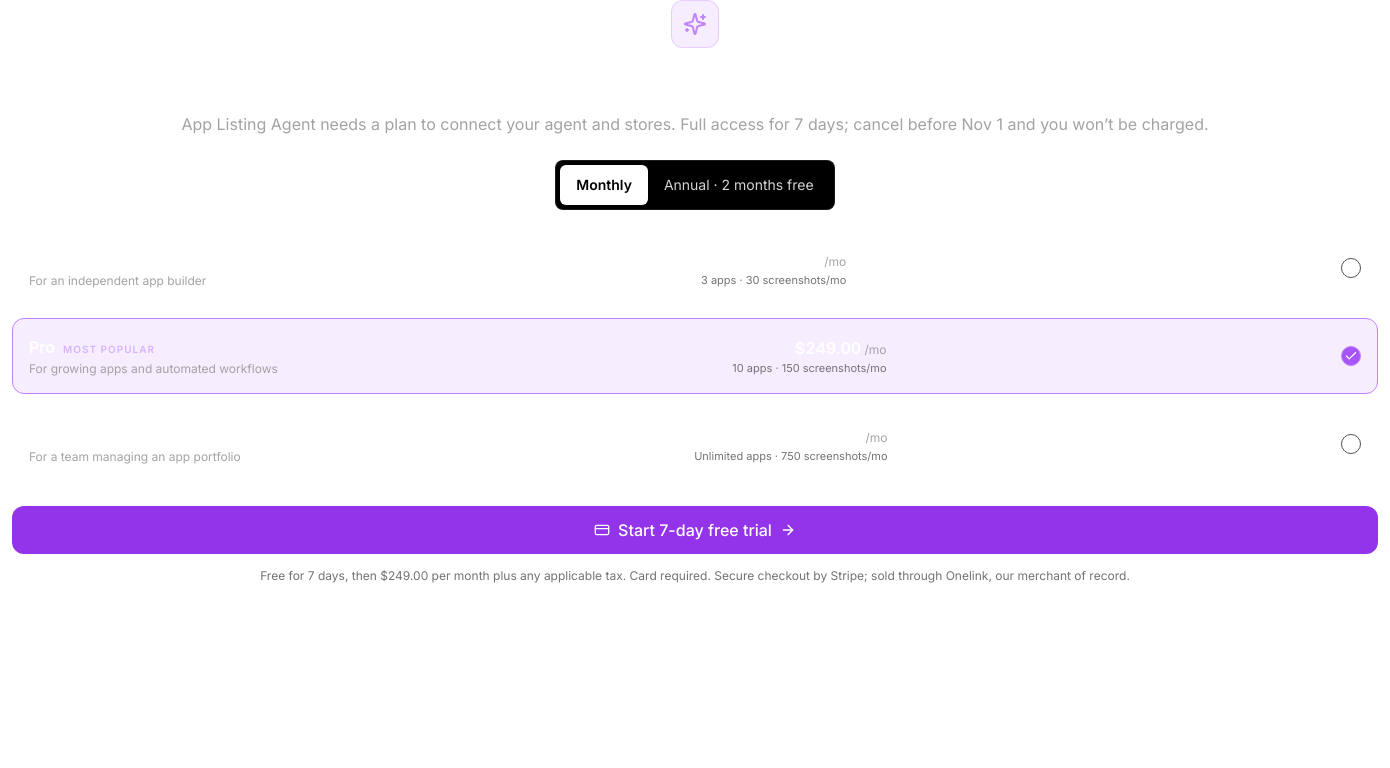
Test case: onboarding trial step › refuses a checkout URL that is not Stripe-hosted
The width and height of the screenshot is (1390, 768).
Click the button "Start 7-day free trial" at (695,530), box [12,506,1378,554]
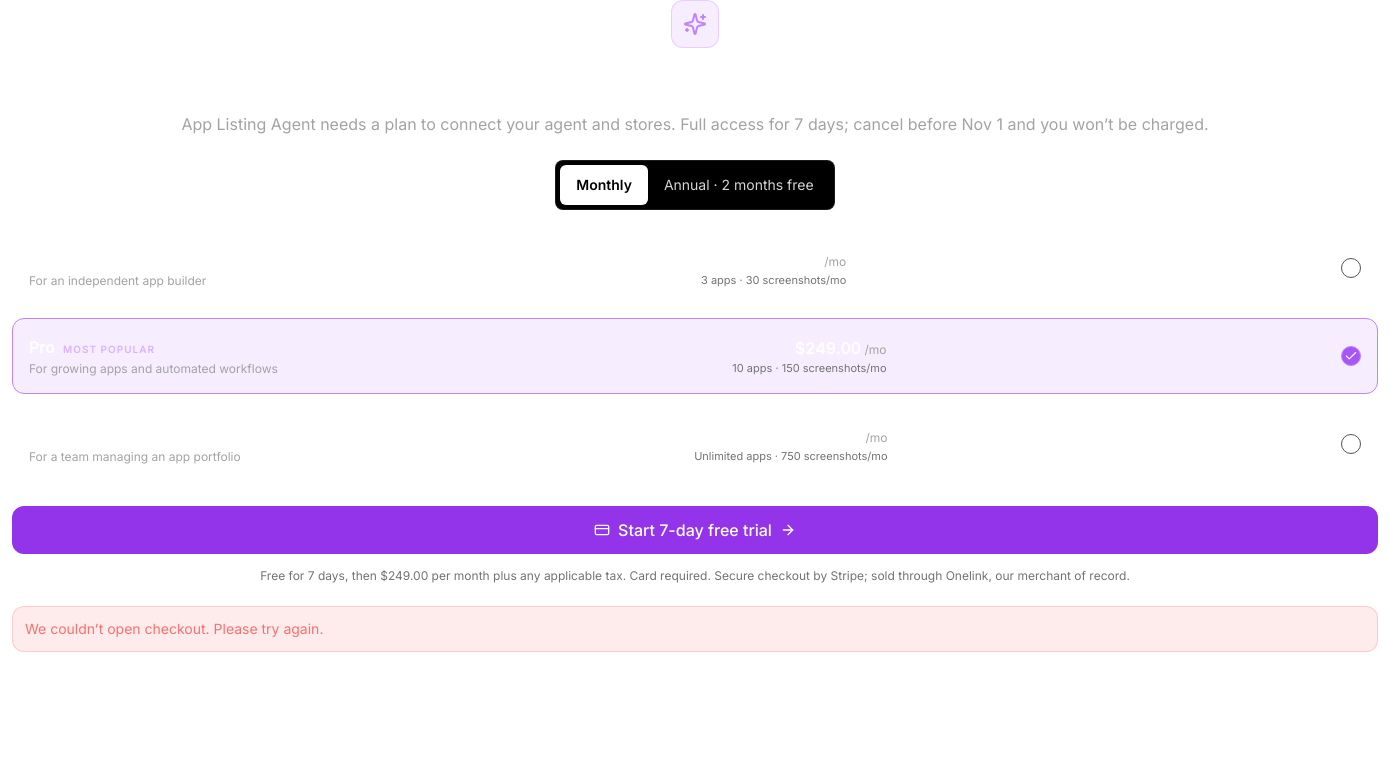
Now the message "We couldn’t open checkout. Please try again." is shown, box [12,606,1378,652]
